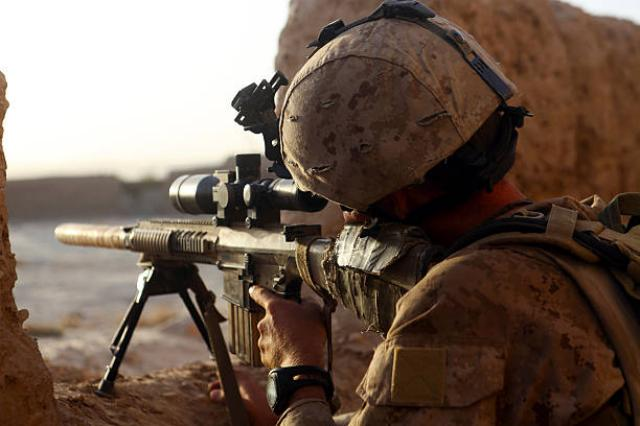other: (260, 30, 638, 420)
